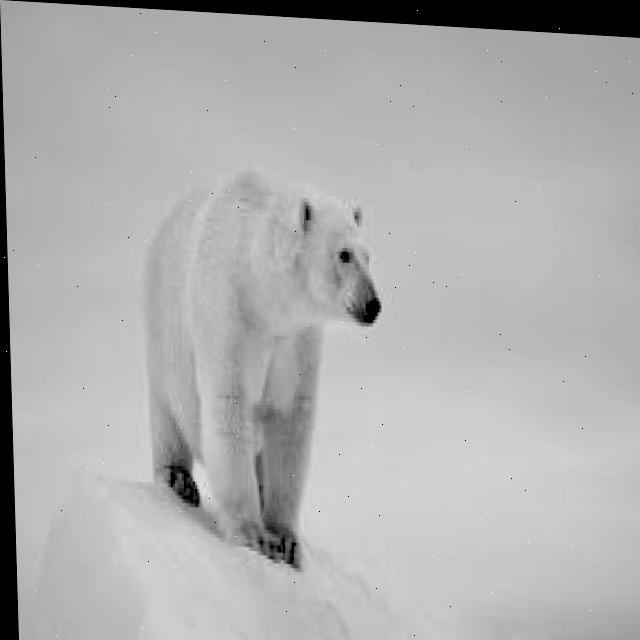Bear: (130, 151, 397, 575)
